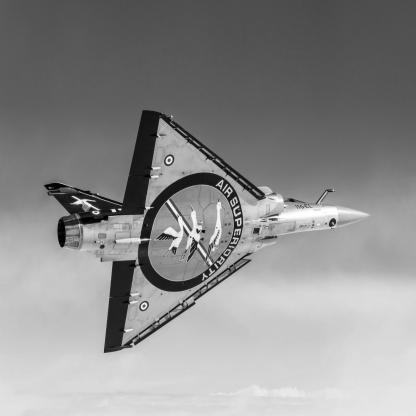Mirage2000: (44, 112, 373, 354)
